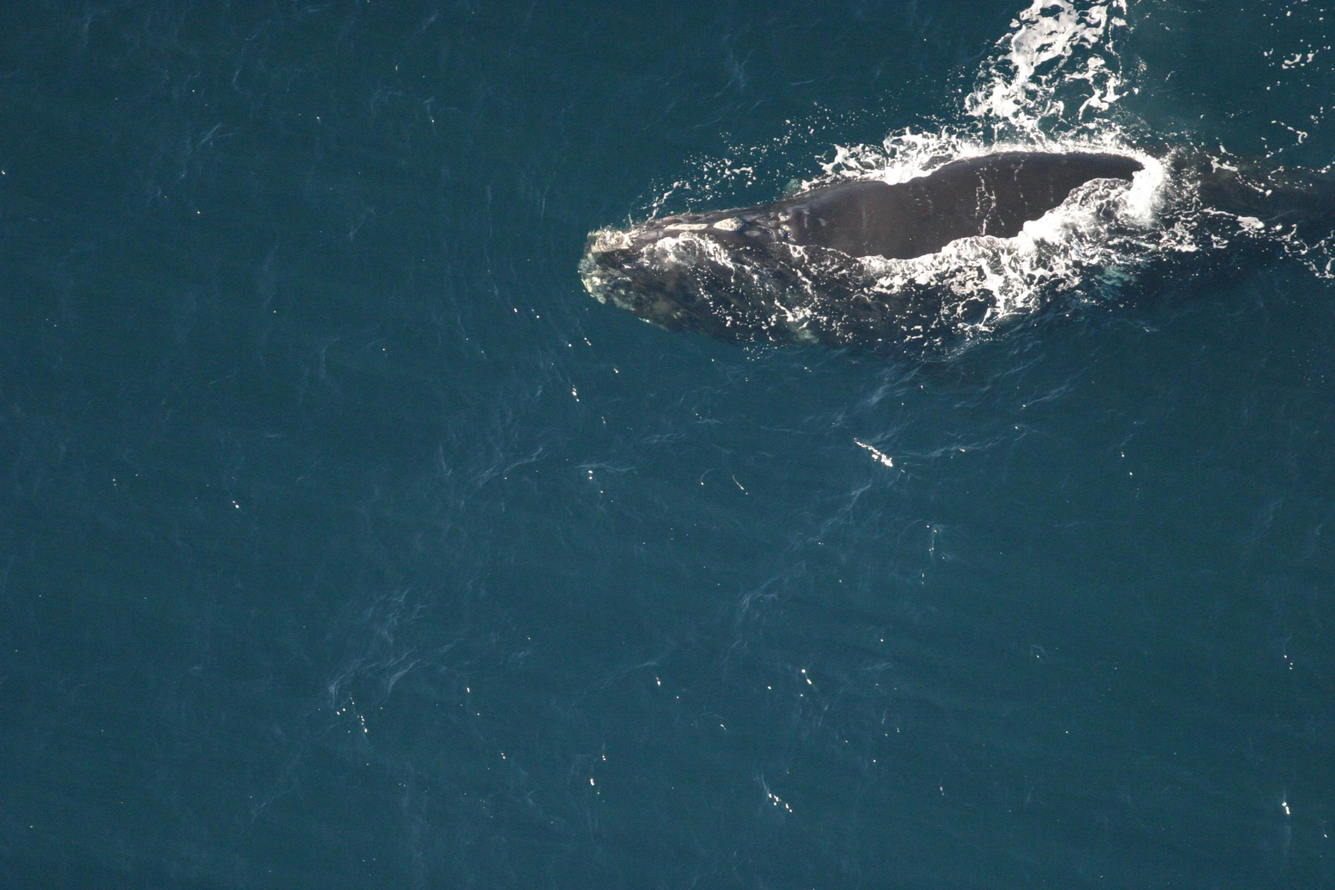whale: (570, 146, 1334, 368)
